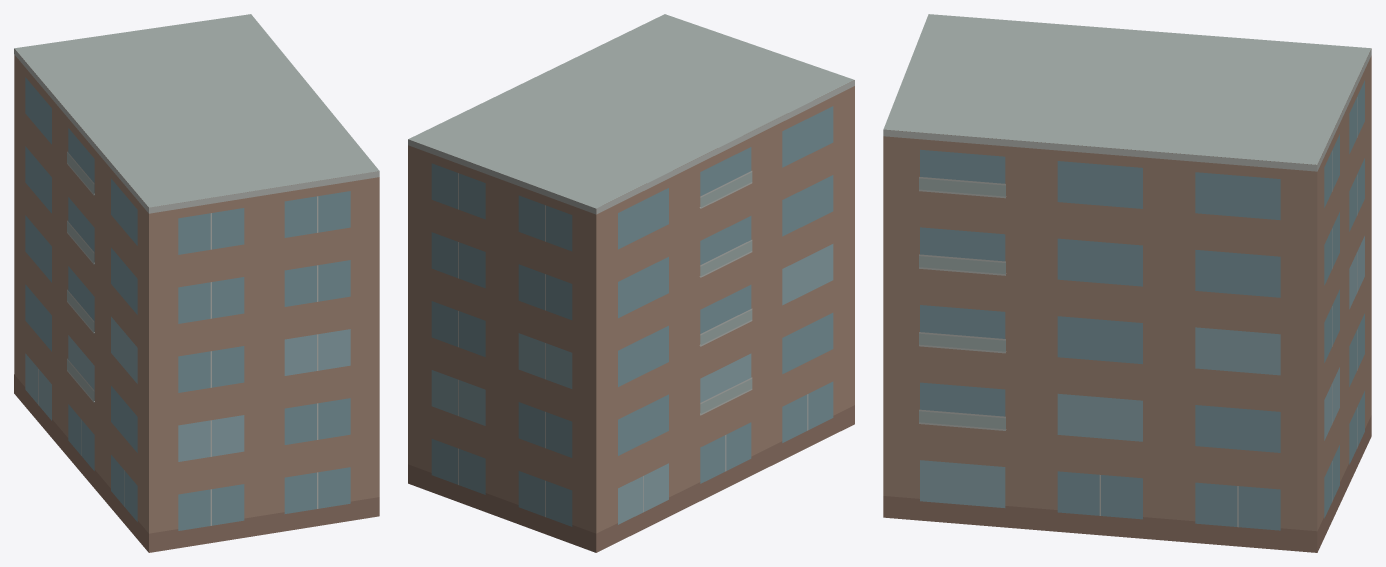
File: survey-upis-32892664.glb
3 renders of one model, left to right at view 1: azimuth 30°, elevation 25°; view 2: azimuth 150°, elevation 25°; view 3: azimuth 270°, elevation 25°, orthographic. The views are drawn at different scales.
Parts seen in each view (by area): view 1: survey-upis-32892664.tmp; view 2: survey-upis-32892664.tmp; view 3: survey-upis-32892664.tmp.
Part boxes in pixels (left/top/right/bottom): survey-upis-32892664.tmp: left=14, top=14, right=379, bottom=552; survey-upis-32892664.tmp: left=408, top=14, right=854, bottom=552; survey-upis-32892664.tmp: left=883, top=14, right=1371, bottom=552.
Bounding box in the file's own units: 11.68 × 14 × 15.98.
